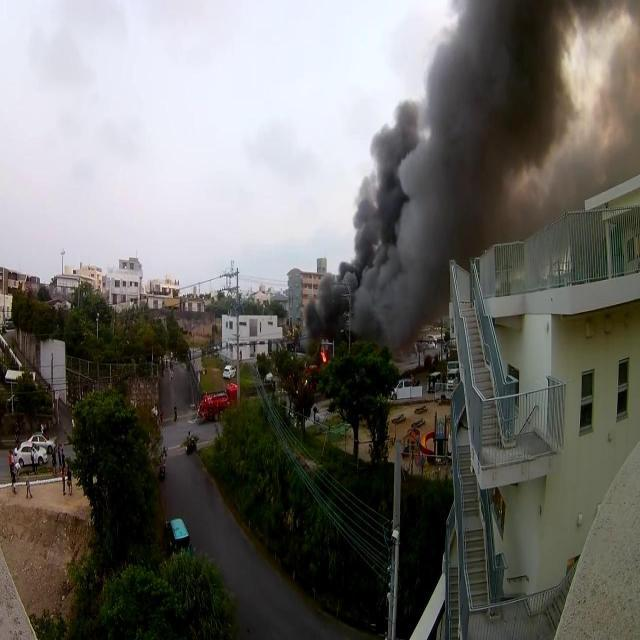Fire: (320, 348, 327, 362)
Smoke: (353, 3, 640, 214), (306, 215, 452, 339)
